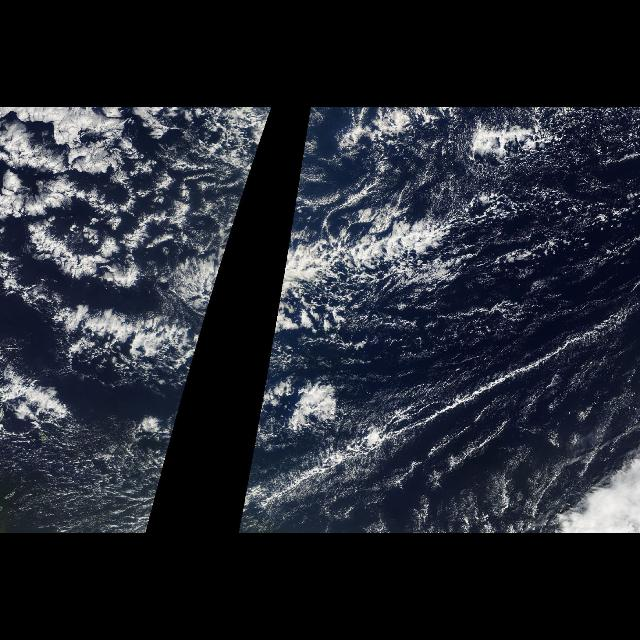Fish: (274, 190, 512, 330), (172, 190, 245, 330)
